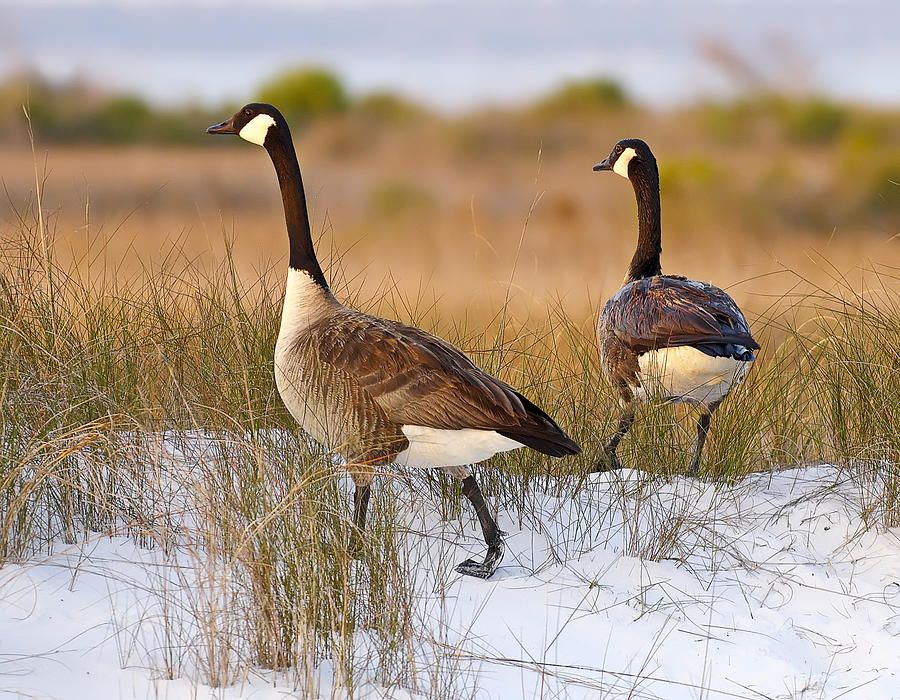goose: (204, 100, 588, 589), (587, 134, 765, 489)
